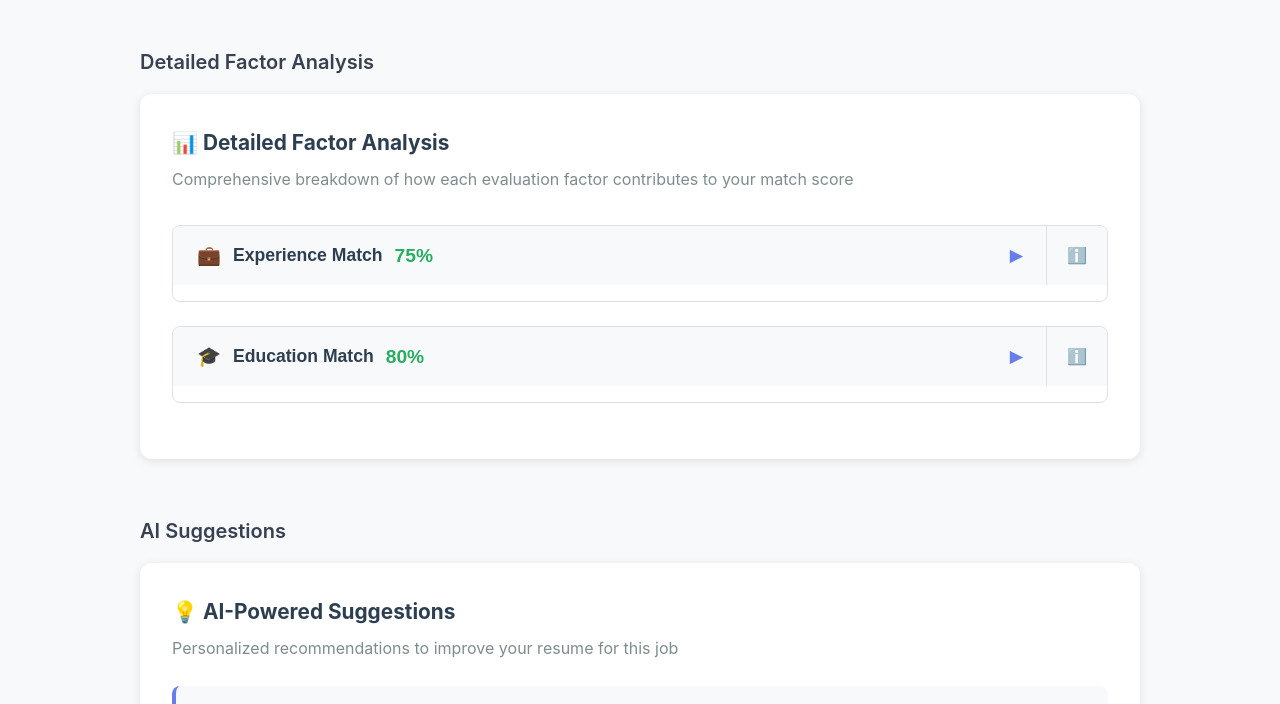
Test case: Results Factor Details Tests › when showDetailedFactors is true › displays education details correctly when expanded
(page scrolled)
What coordinates should you click on to do the following:
click the button "🎓 Education Match 80% ▶"
I would click on:
 (303, 356)
Its box is [173, 329, 1046, 384].
(page scrolled)
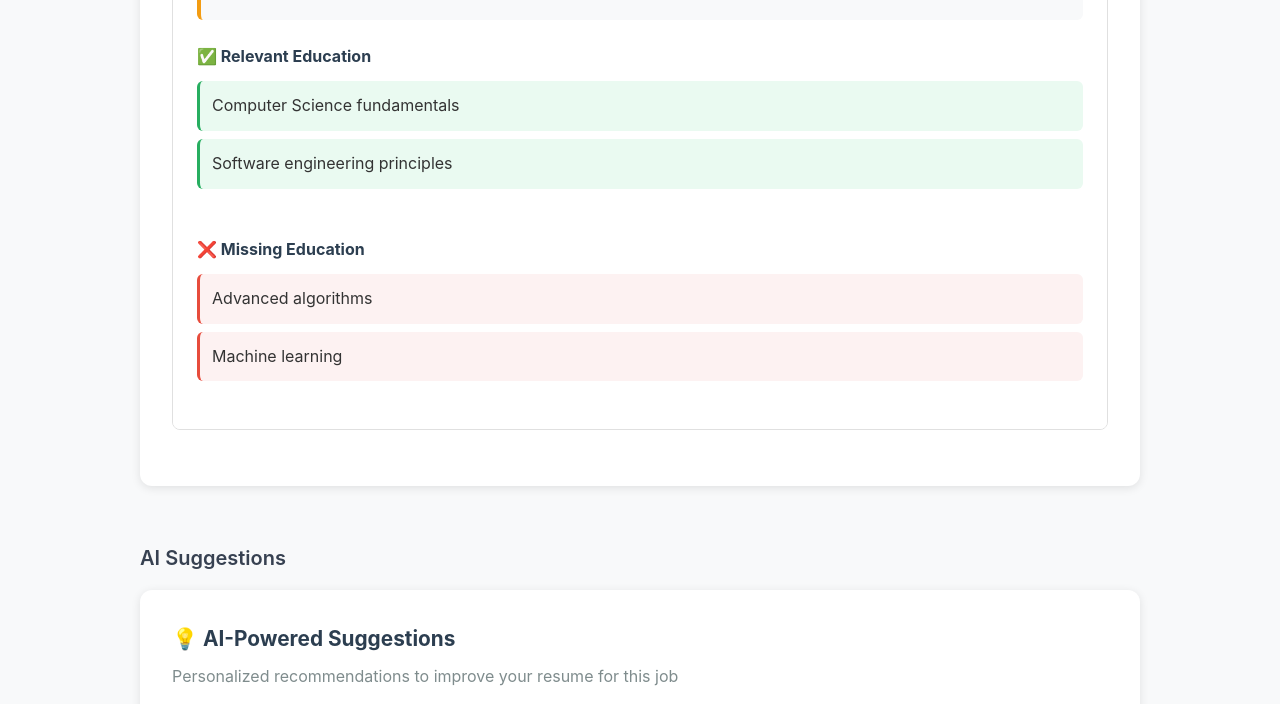
Expected: the heading "✅ Relevant Education" is shown, [197, 46, 371, 66]
Expected: the list item "Computer Science fundamentals" is shown, [197, 82, 1083, 131]
Expected: the list item "Software engineering principles" is shown, [197, 139, 1083, 189]
